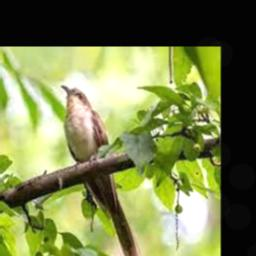Cuckoo: (60, 84, 145, 256)
